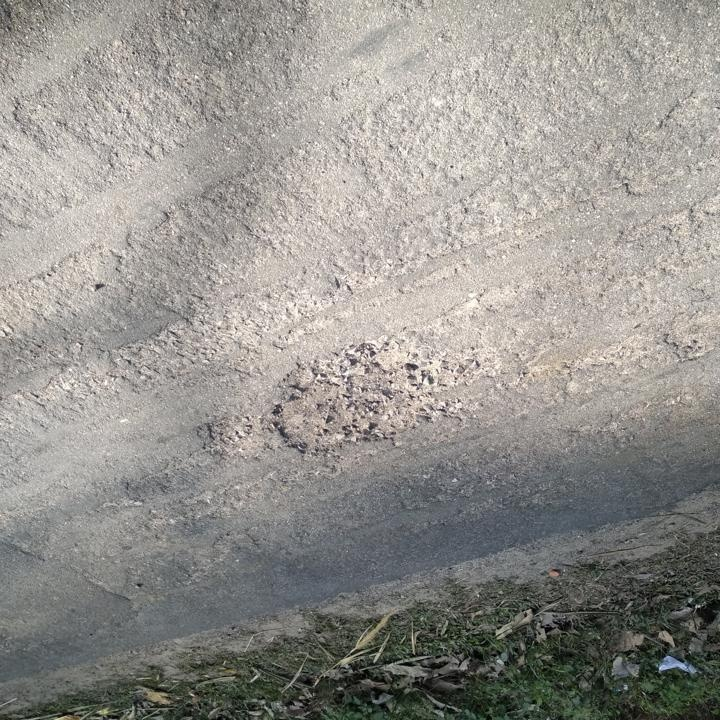pothole: (267, 330, 469, 462)
